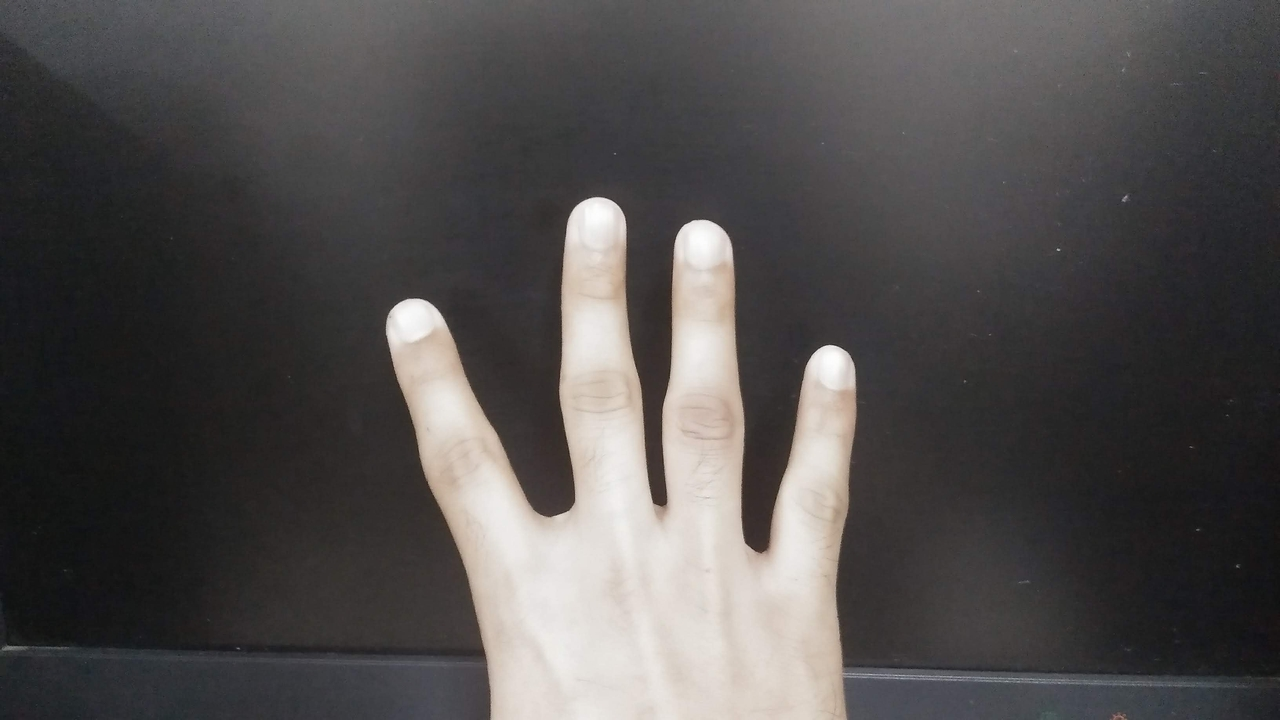fingertip: (374, 292, 452, 366), (560, 194, 628, 264), (798, 340, 864, 408), (668, 220, 734, 286)
